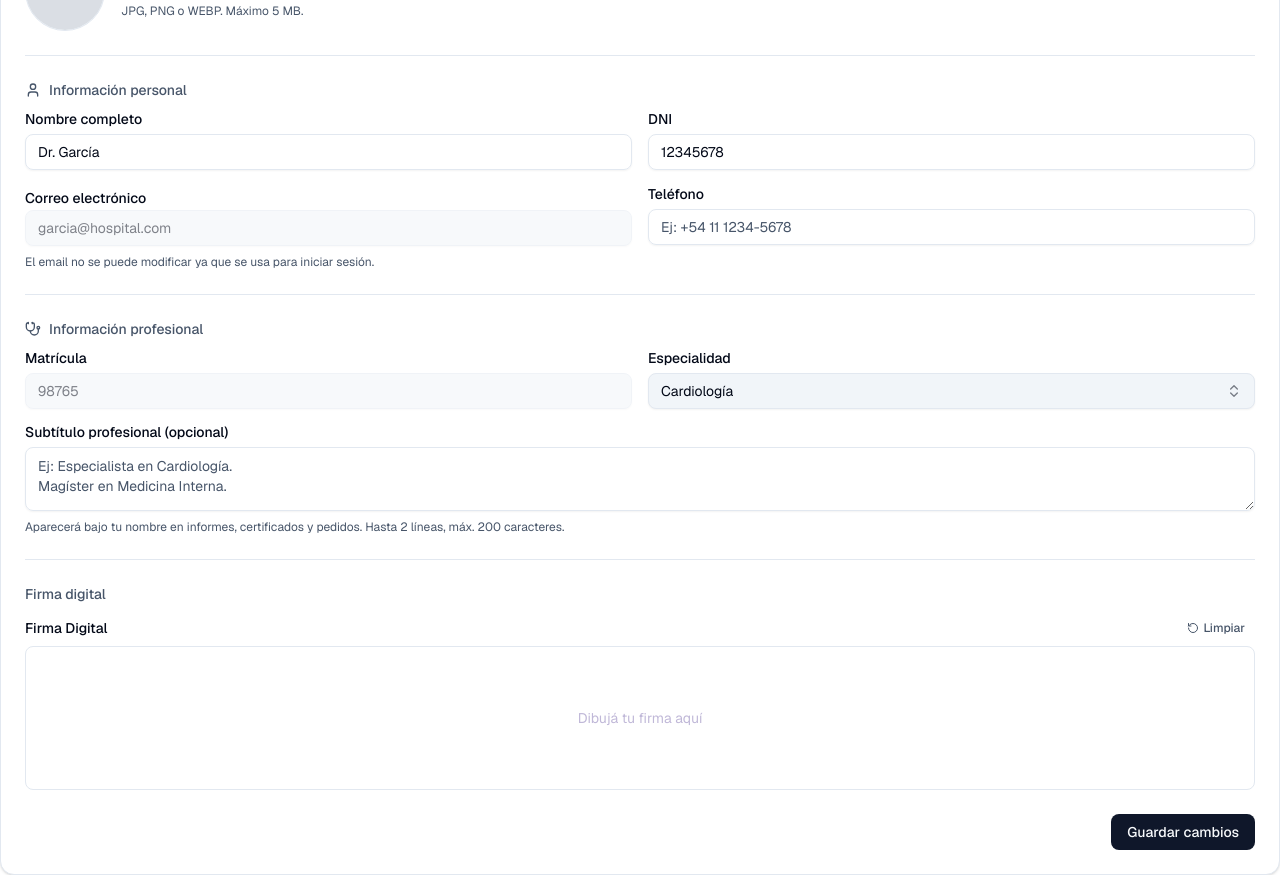
Scenario: ProfileForm › shows validation error when phone is empty
This screenshot has width=1280, height=875.
(page scrolled)
Click the button "Guardar cambios".
click(1183, 832)  # box [1111,814,1255,850]
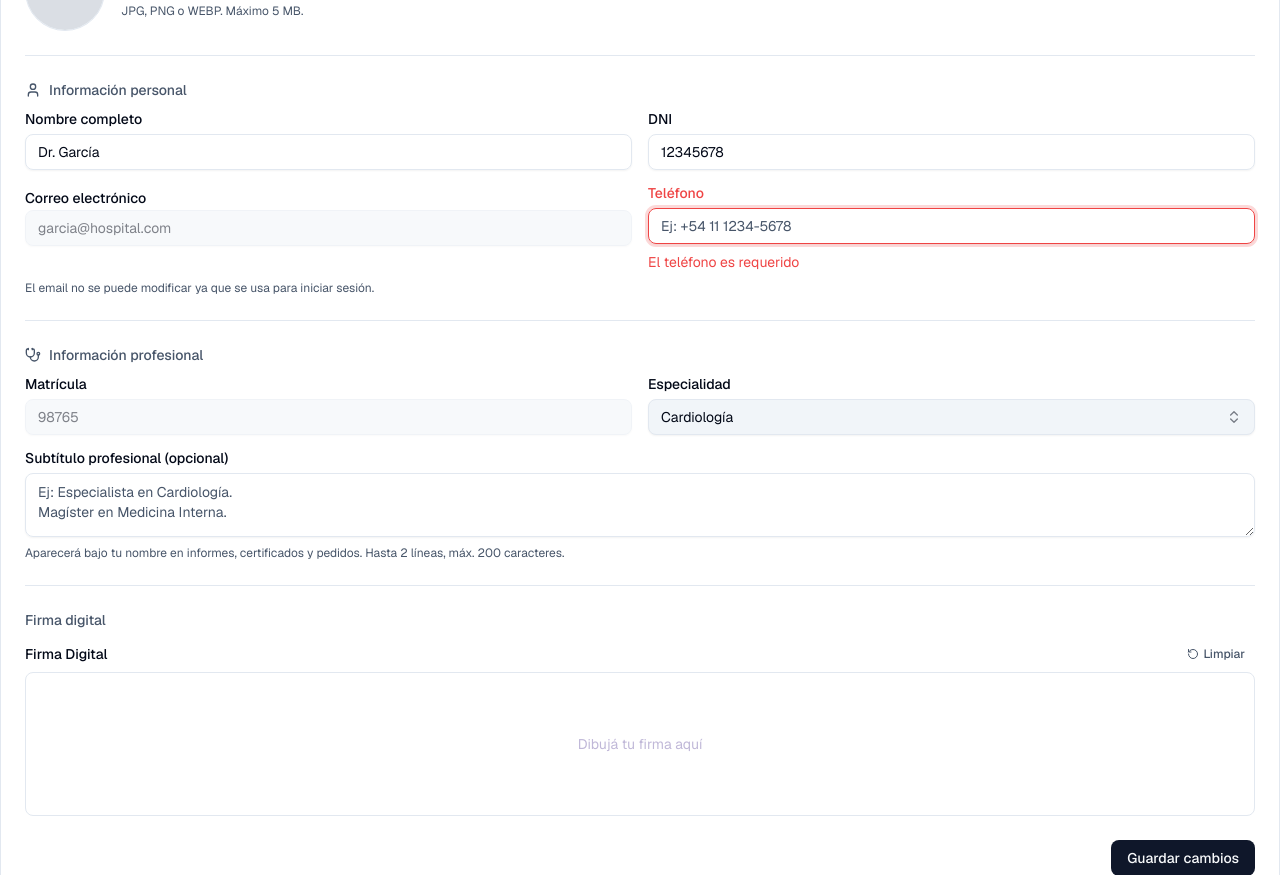
Check: the text "El teléfono es requerido" is shown, box [648,253,799,271]
